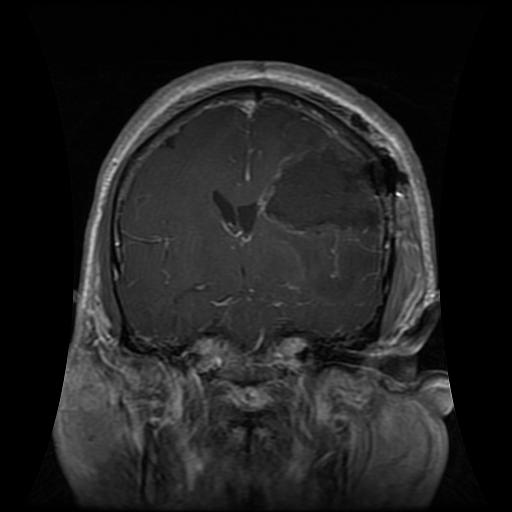Gliomia_tumour: (255, 137, 382, 236)
